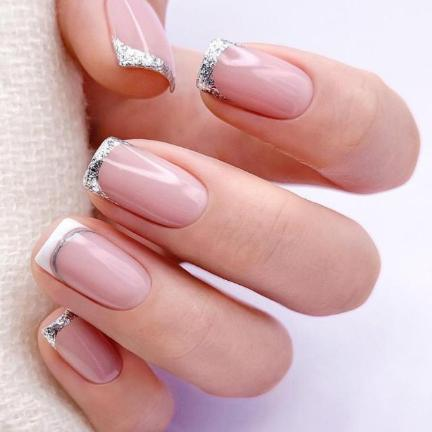Nail: (82, 136, 208, 228), (34, 218, 151, 312), (195, 37, 314, 120), (106, 0, 176, 93), (41, 309, 123, 385)
